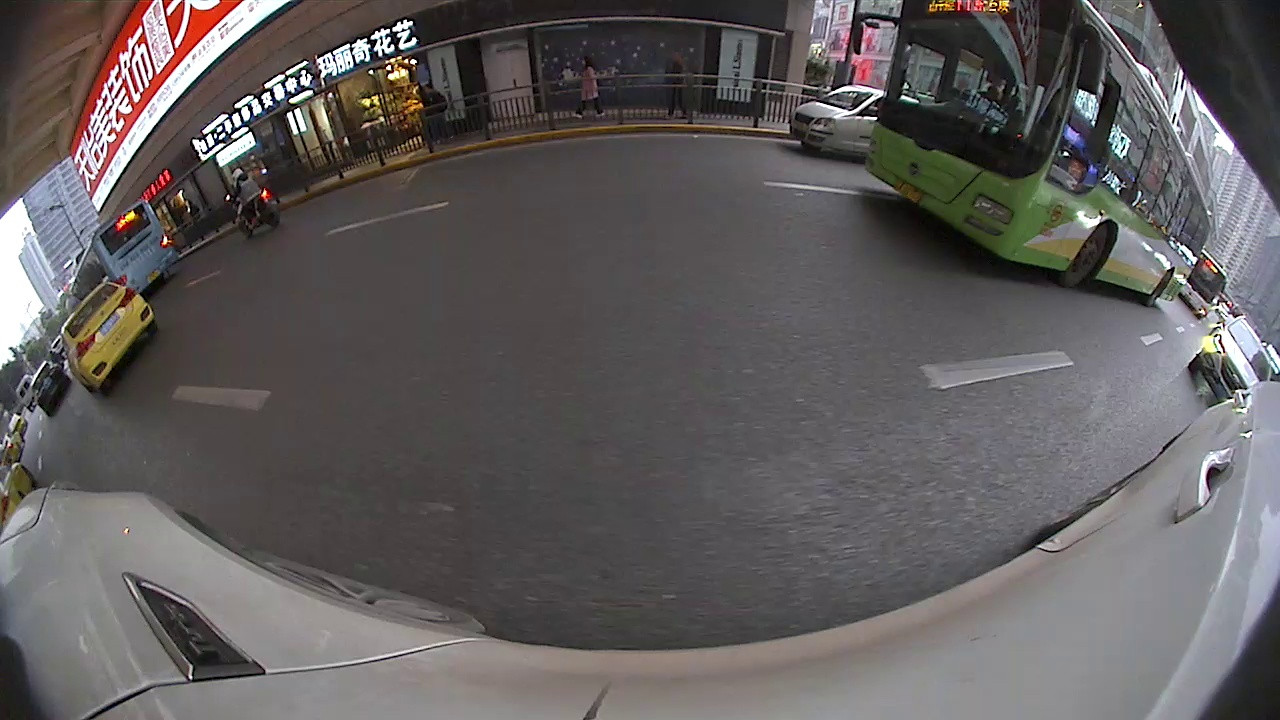bus: (870, 1, 1212, 311), (70, 196, 180, 310), (1176, 249, 1232, 320)
car: (60, 277, 153, 399), (1190, 316, 1273, 411), (27, 359, 70, 420)
front: (1064, 222, 1116, 283)
rider: (228, 163, 282, 237)
